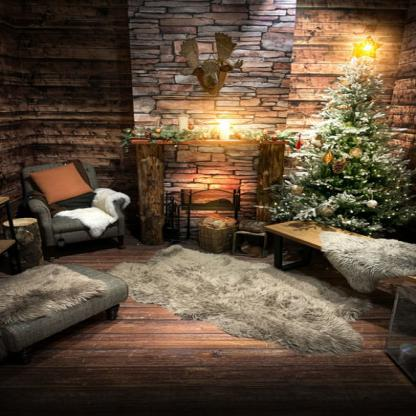x_mas tree: (275, 8, 415, 254)
